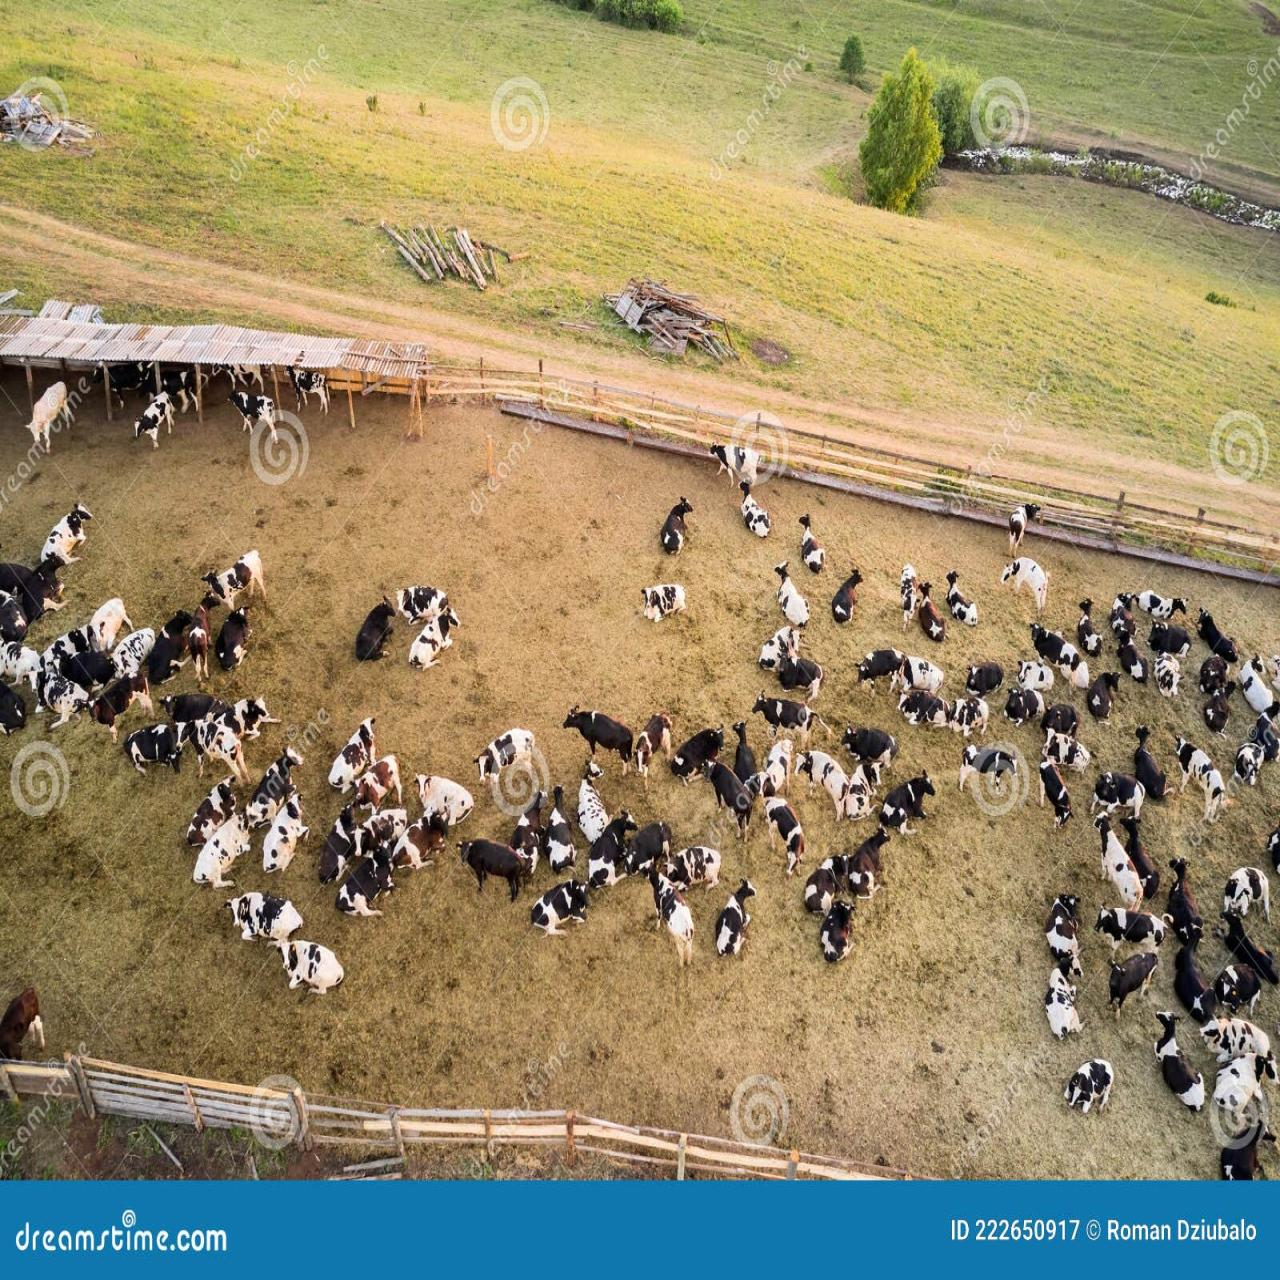cow: (1151, 1009, 1213, 1118), (191, 796, 259, 893), (640, 870, 696, 980), (1170, 736, 1227, 839), (322, 706, 387, 794), (77, 673, 157, 742), (169, 714, 251, 775), (176, 768, 234, 852), (271, 938, 347, 1002), (529, 866, 607, 928), (343, 823, 389, 928), (706, 880, 757, 973), (248, 735, 302, 822), (265, 790, 312, 888), (632, 690, 678, 790), (316, 794, 365, 886), (1126, 722, 1175, 812), (570, 709, 640, 770), (464, 838, 532, 900), (1030, 756, 1081, 839), (798, 847, 857, 919), (0, 990, 57, 1063), (492, 729, 547, 801), (700, 775, 755, 845), (226, 896, 305, 945), (1102, 952, 1159, 1019), (795, 498, 838, 585), (840, 723, 899, 787), (813, 897, 866, 967), (753, 694, 813, 754), (765, 556, 811, 635), (26, 384, 75, 457), (47, 492, 96, 565), (408, 605, 458, 674), (123, 720, 175, 787), (1049, 891, 1090, 974), (223, 683, 278, 744), (908, 568, 951, 646), (392, 821, 444, 881), (354, 591, 397, 665), (942, 565, 989, 633), (230, 380, 279, 444), (1223, 866, 1276, 924), (965, 744, 1024, 796), (835, 552, 870, 639), (211, 553, 265, 610), (1002, 481, 1040, 561), (1062, 1057, 1114, 1115), (356, 745, 404, 806), (417, 775, 472, 828), (673, 726, 726, 779), (625, 823, 674, 880), (728, 476, 774, 537), (884, 774, 934, 829), (290, 366, 340, 421), (851, 832, 888, 906), (803, 751, 852, 806), (212, 354, 268, 402), (707, 437, 765, 482), (765, 802, 804, 869), (1001, 559, 1051, 610), (132, 392, 172, 452), (393, 586, 447, 629), (1095, 772, 1143, 817), (900, 545, 925, 632), (683, 844, 726, 894), (660, 495, 695, 554), (1030, 627, 1080, 667), (1088, 669, 1122, 726), (858, 645, 907, 683), (182, 619, 213, 676), (641, 581, 682, 620), (968, 665, 1008, 701)
